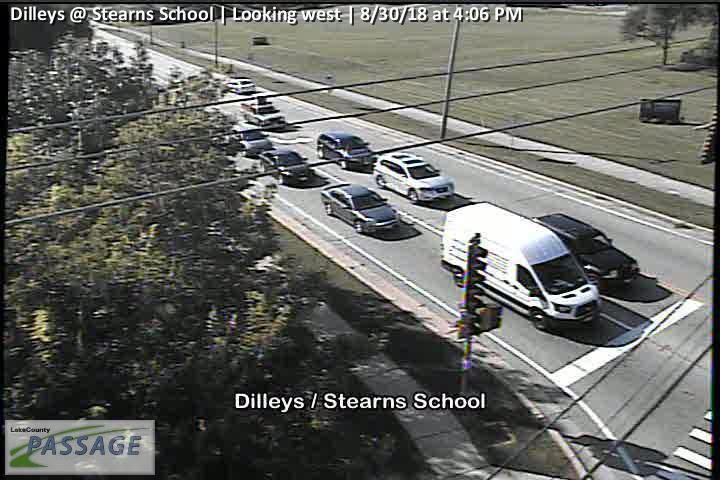SUV: (440, 201, 602, 331), (532, 213, 641, 291), (373, 151, 455, 204), (317, 132, 374, 170), (240, 99, 285, 131), (227, 79, 256, 95)
Sedan: (321, 183, 400, 235), (259, 150, 319, 188), (232, 127, 272, 155)
